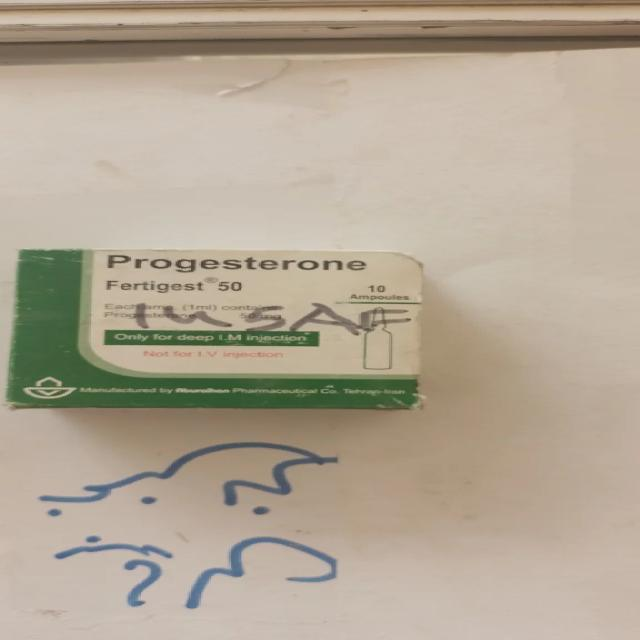drug-name: (102, 275, 256, 296)
